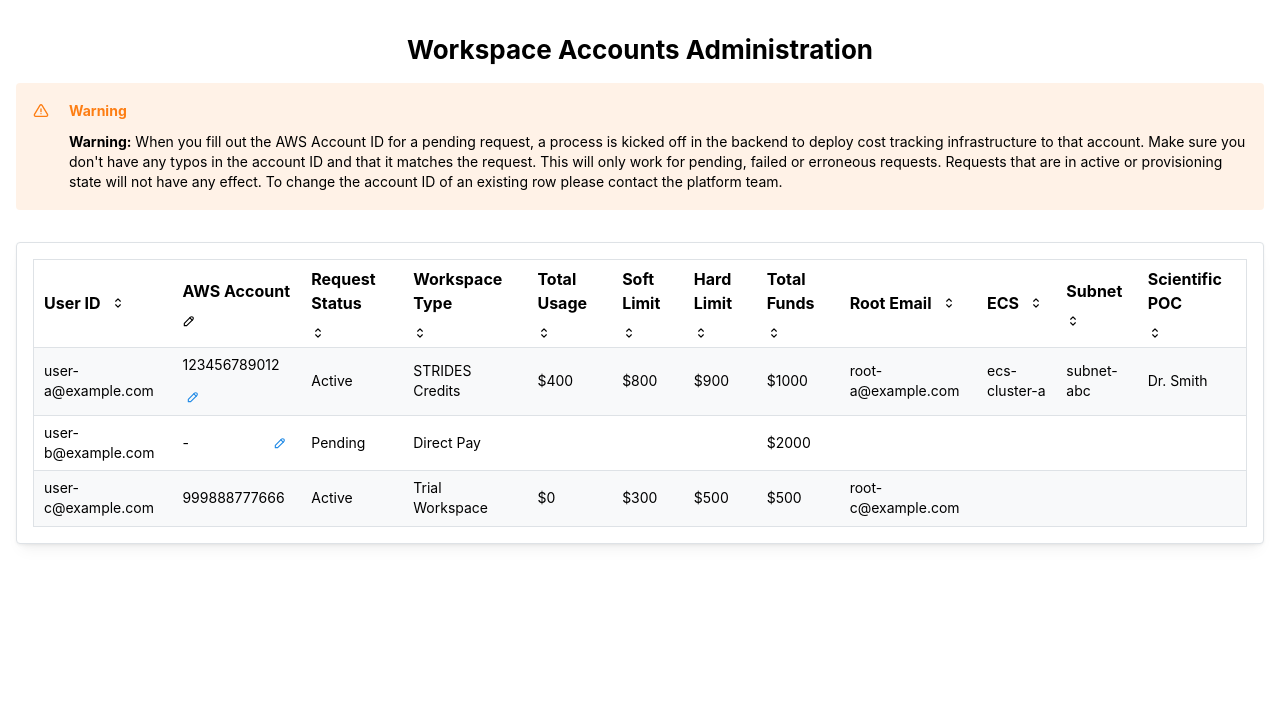
Test case: WorkspaceAccountsAdminClient › Editable Account ID cell › cancels editing on Escape without opening the modal
Expected: the text "user-a@example.com" is shown, [44,361,162,402]
Click the button without text below "123456789012" at (193, 397), box [182,386,204,408]
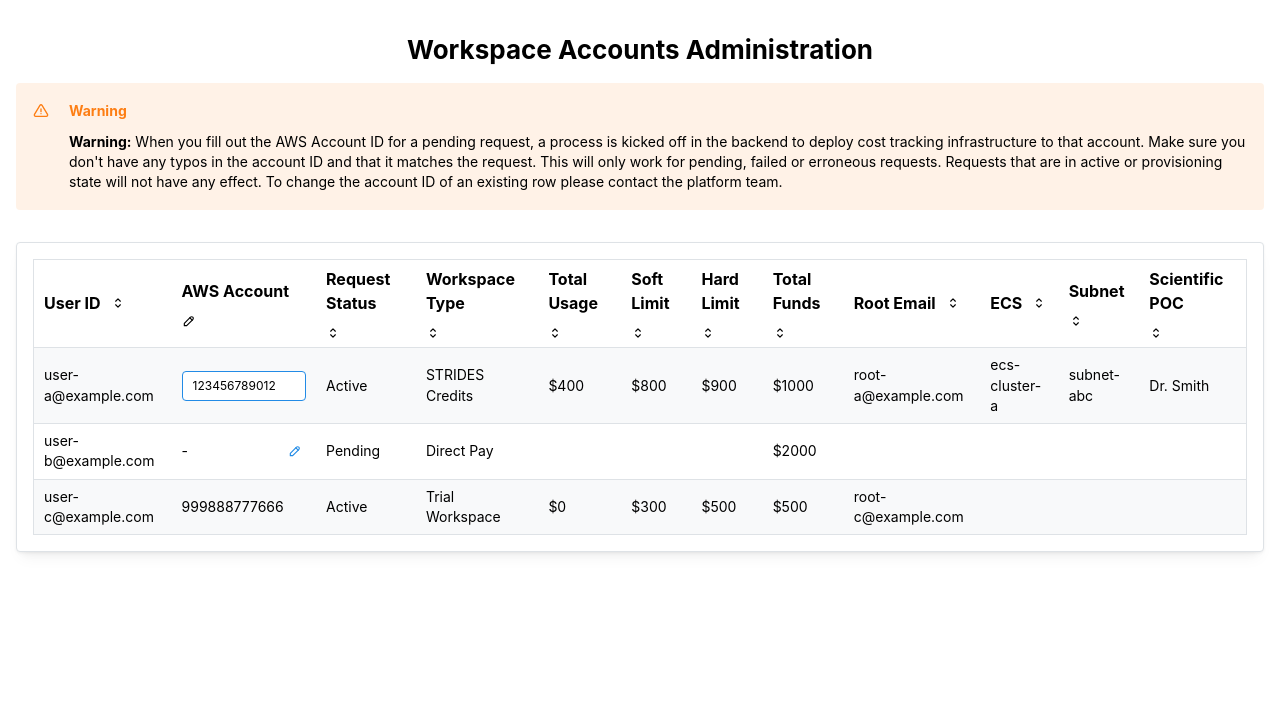
Press Escape in the field, box [182,371,306,401]
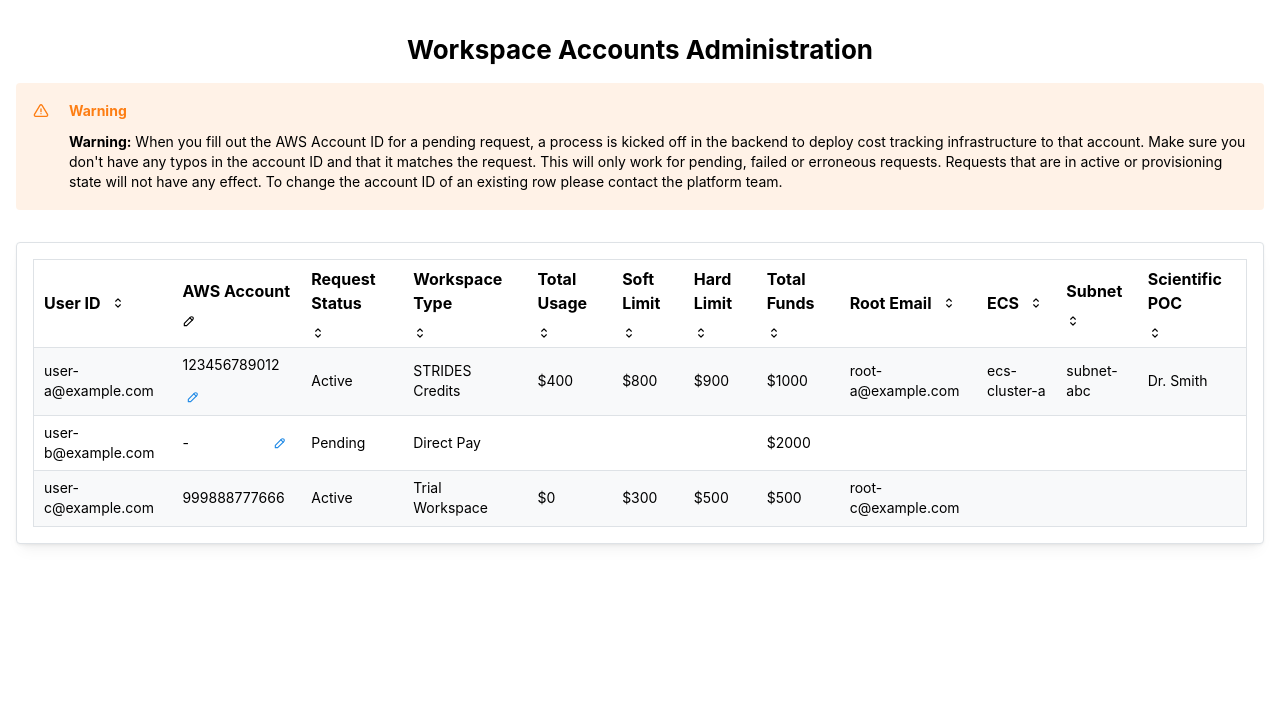
Expected: the field is gone
